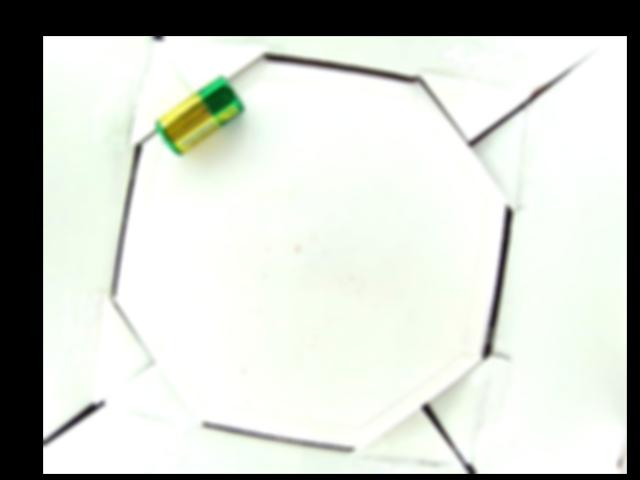Battery: (154, 75, 247, 156)
